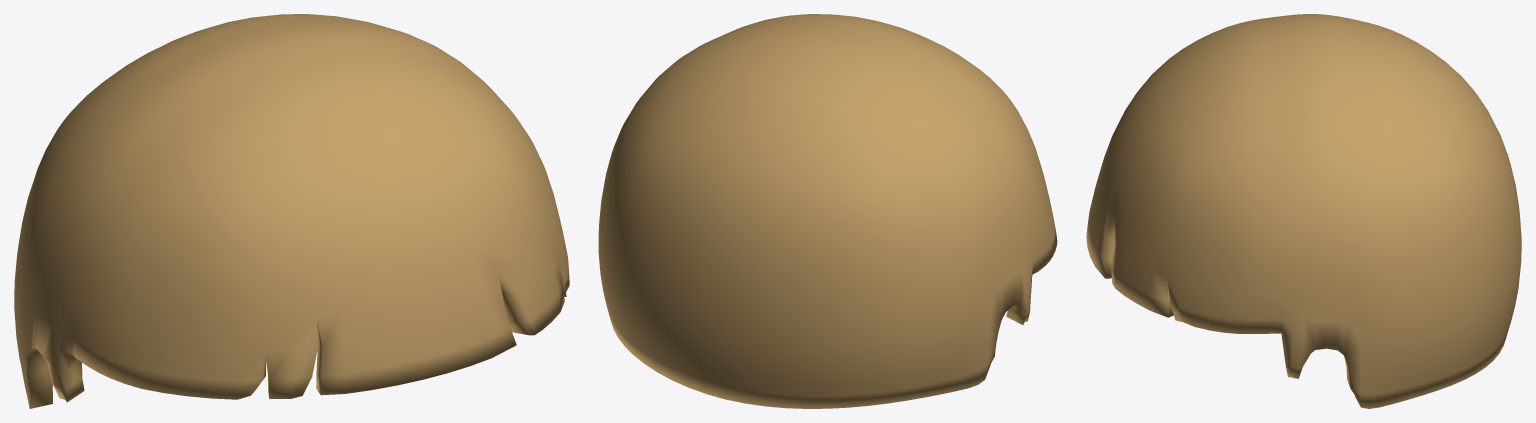
The model's file is Boy_onlyHair.fbx.
3 renders of one model, left to right at view 1: azimuth 30°, elevation 25°; view 2: azimuth 150°, elevation 25°; view 3: azimuth 270°, elevation 25°, orthographic. The views are drawn at different scales.
Parts seen in each view (by area): view 1: Cube.011; view 2: Cube.011; view 3: Cube.011.
Boxes of the visible parts, box(x1,y1,x2,y2) form: Cube.011: box(14, 14, 569, 408); Cube.011: box(598, 14, 1057, 408); Cube.011: box(1086, 14, 1521, 408).
Size of the model in its own units: 197 by 136 by 186.
